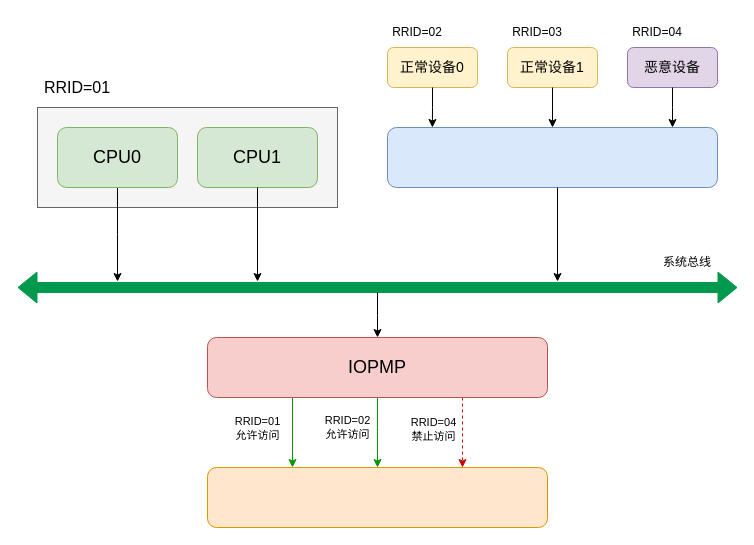
Image size: 754x545. Some labels were removed from this diagram. Here are the shapes that lost their labels. From the top down, the centre of each, then its label:
At point 552,157: "DMA".
At point 377,497: "Memory".
